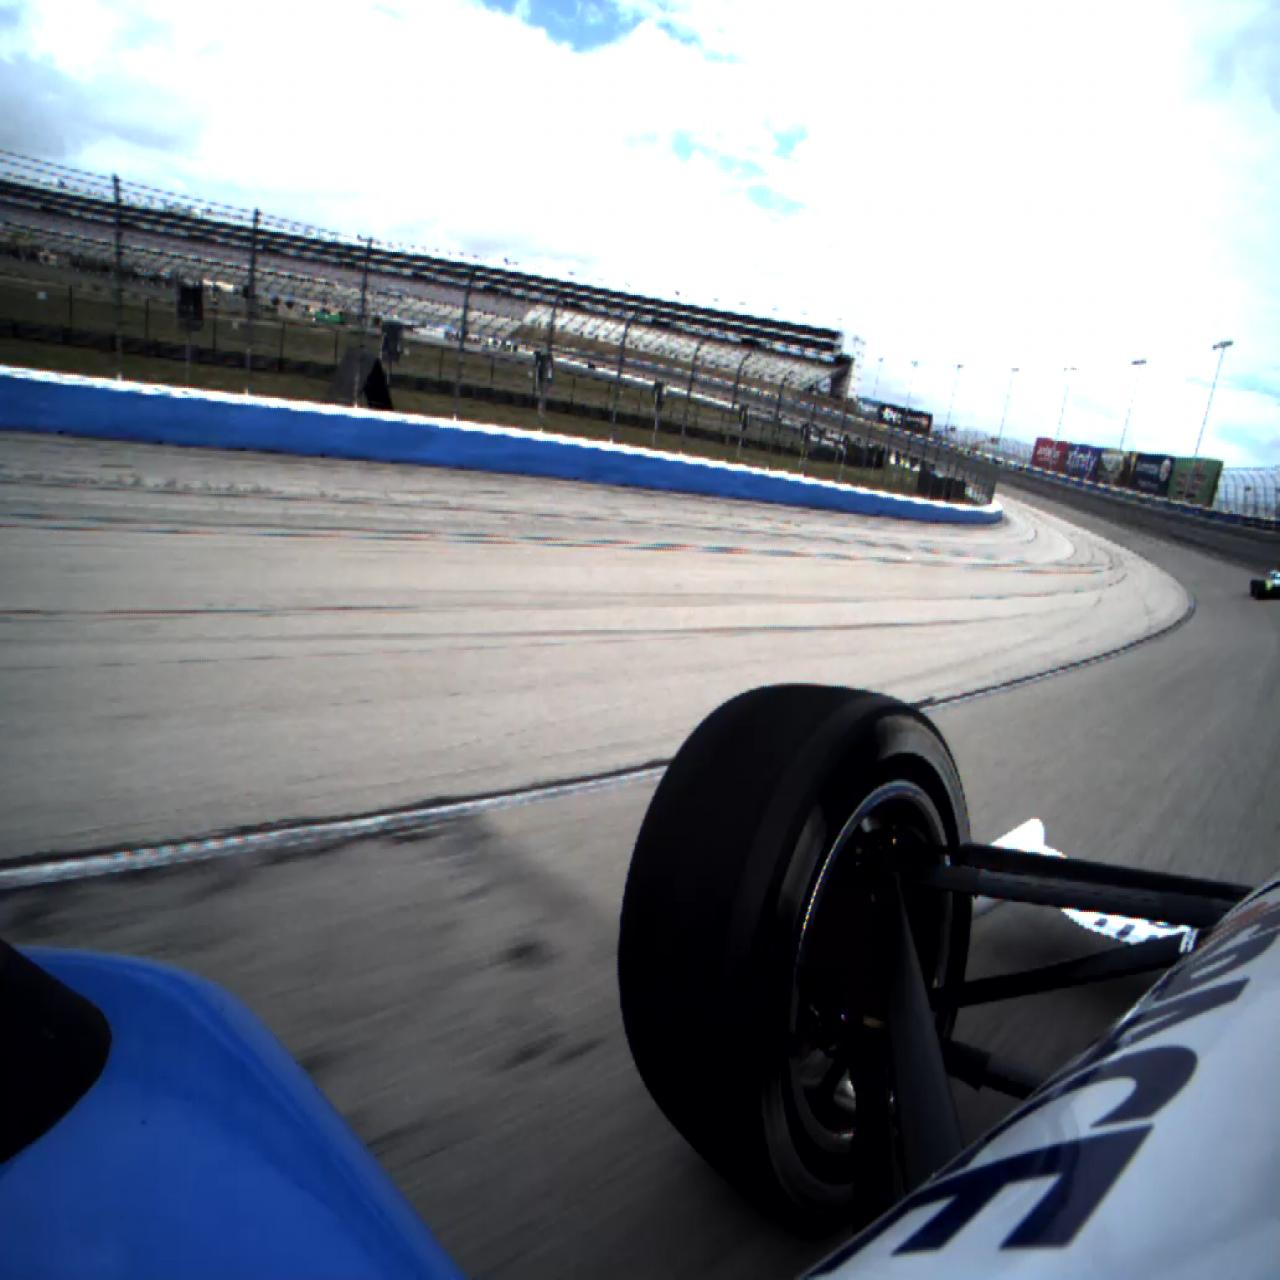AV: (1250, 567, 1280, 601)
Wheel: (618, 682, 976, 1216), (1255, 580, 1266, 600), (1250, 579, 1258, 598)
